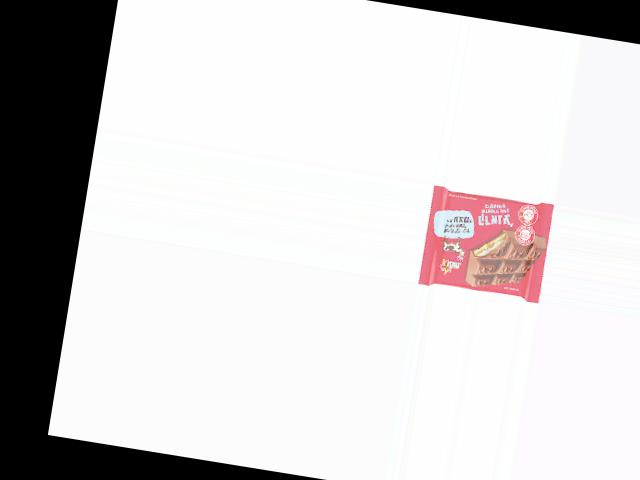chocolate: (422, 184, 553, 302)
